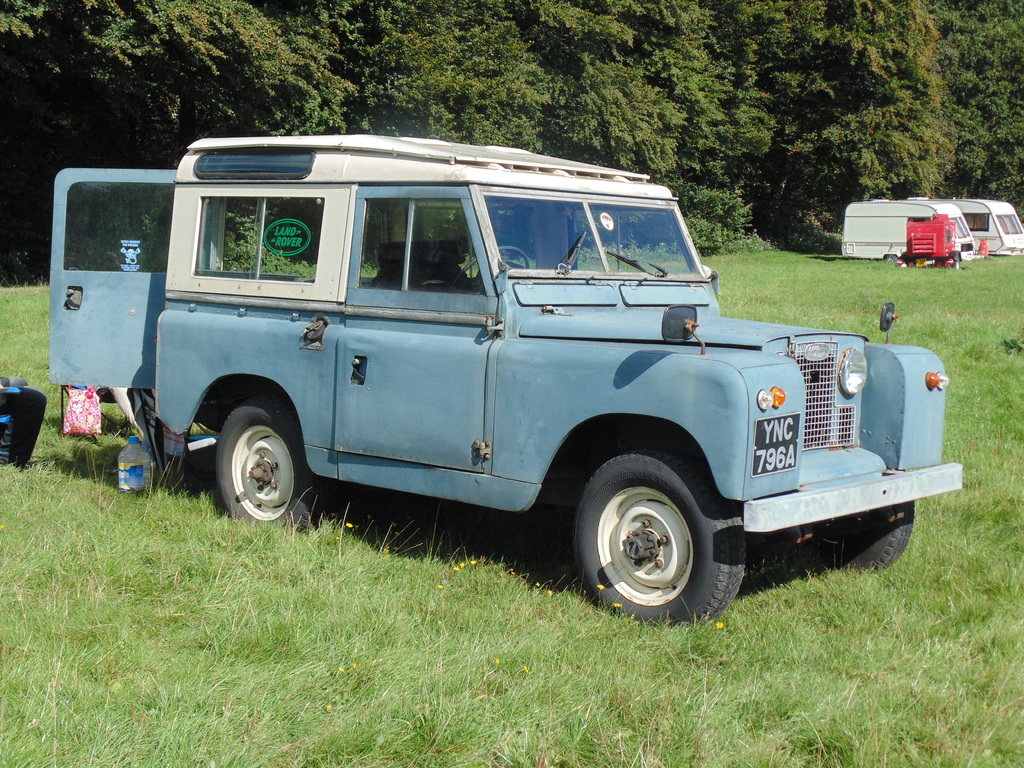person: (0, 369, 48, 469)
